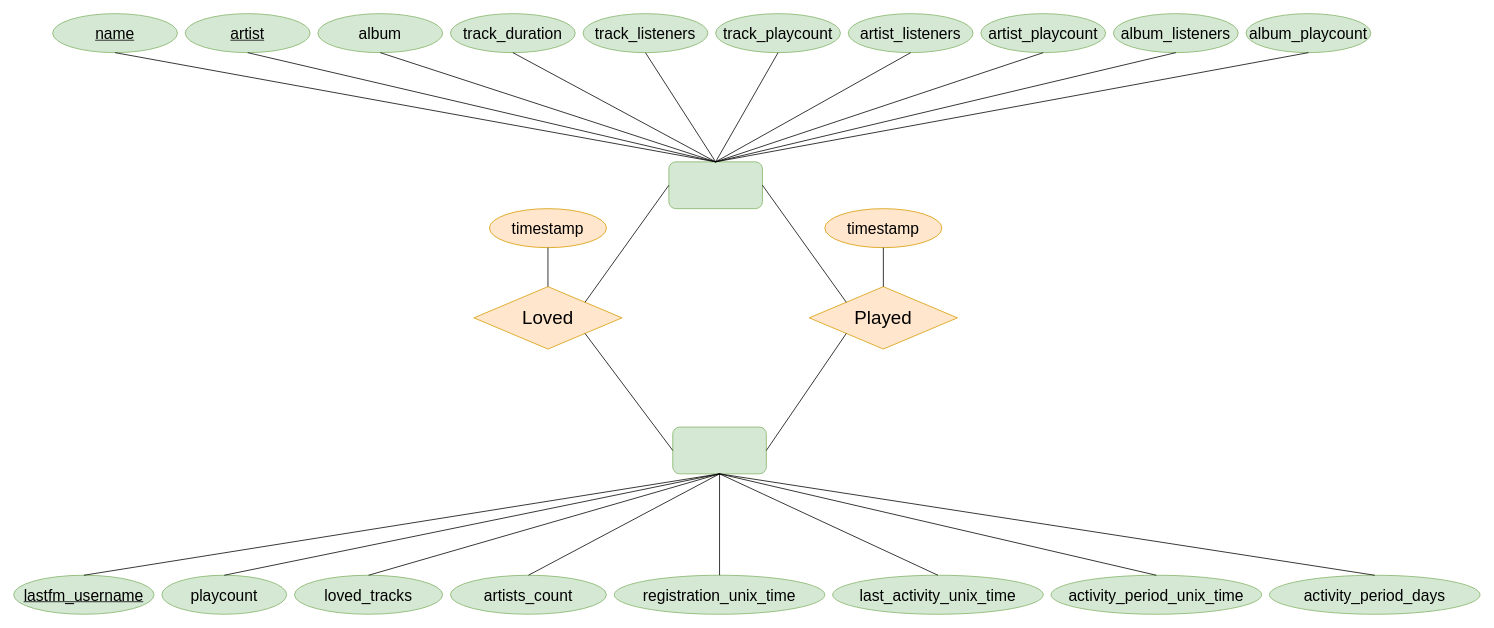
Some shapes in this 1494 by 628 pixel diagram are drawn without their labels. Each missing label, with the centre of its shape:
Track: point 715,185
User: point 719,450
